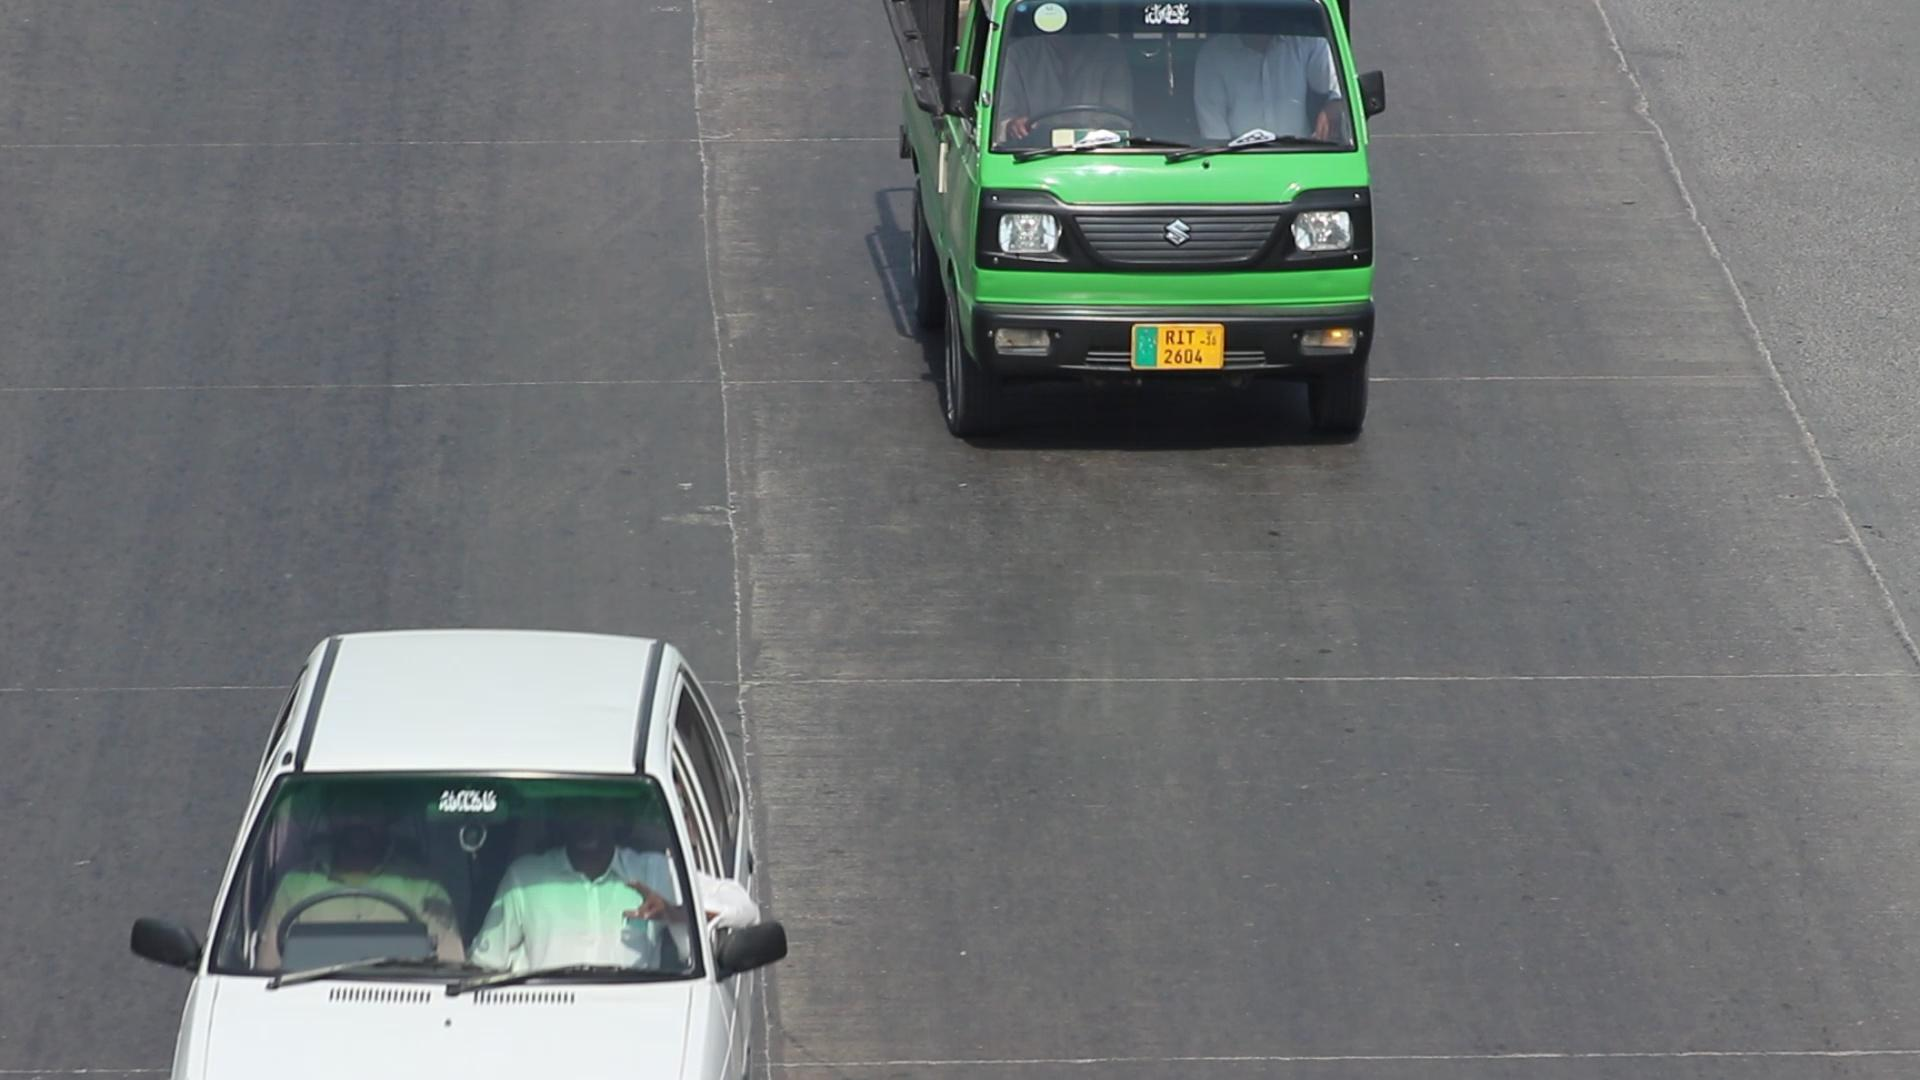windshield: (185, 746, 700, 1000), (981, 4, 1370, 173)
